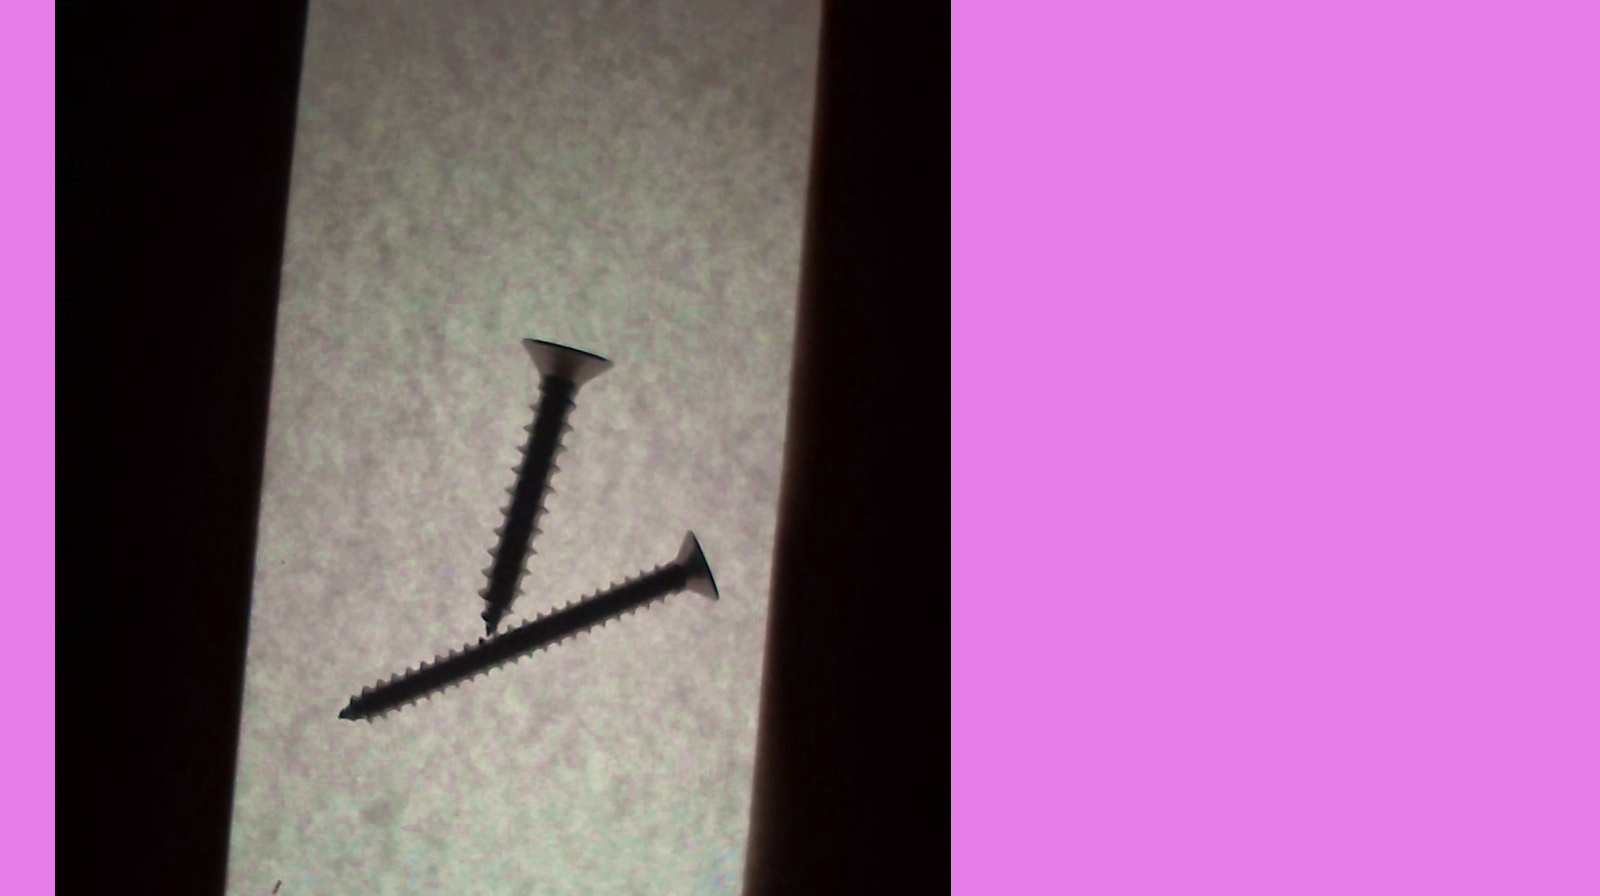S001: (469, 329, 615, 635)
S002: (329, 526, 720, 724)
